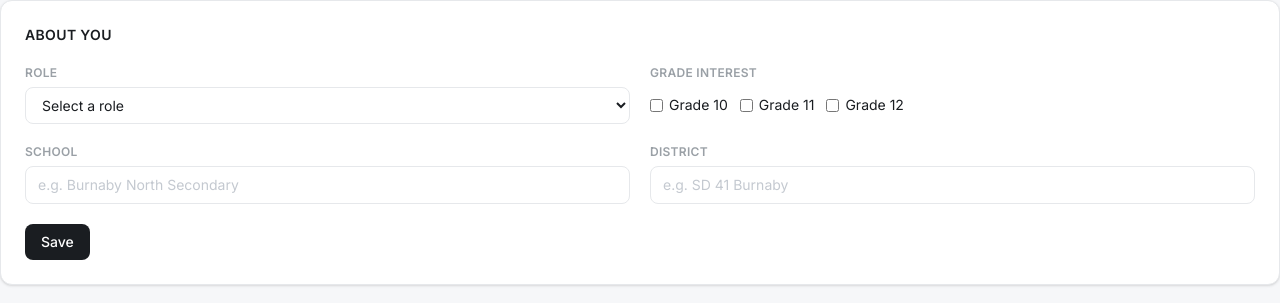
ProfileForm › shows an inline error when the save fails
The width and height of the screenshot is (1280, 303).
Click the button "Save": (57, 242) [25,224,90,260]
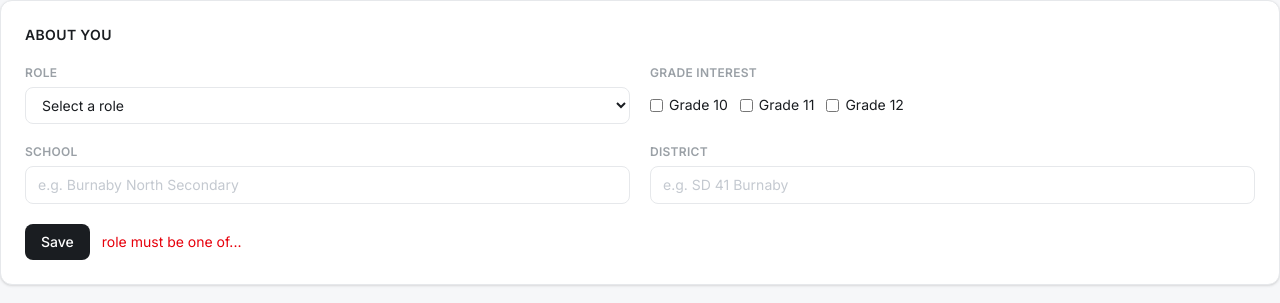
Result: the text "role must be one of..." is shown at [102,232,242,252]
